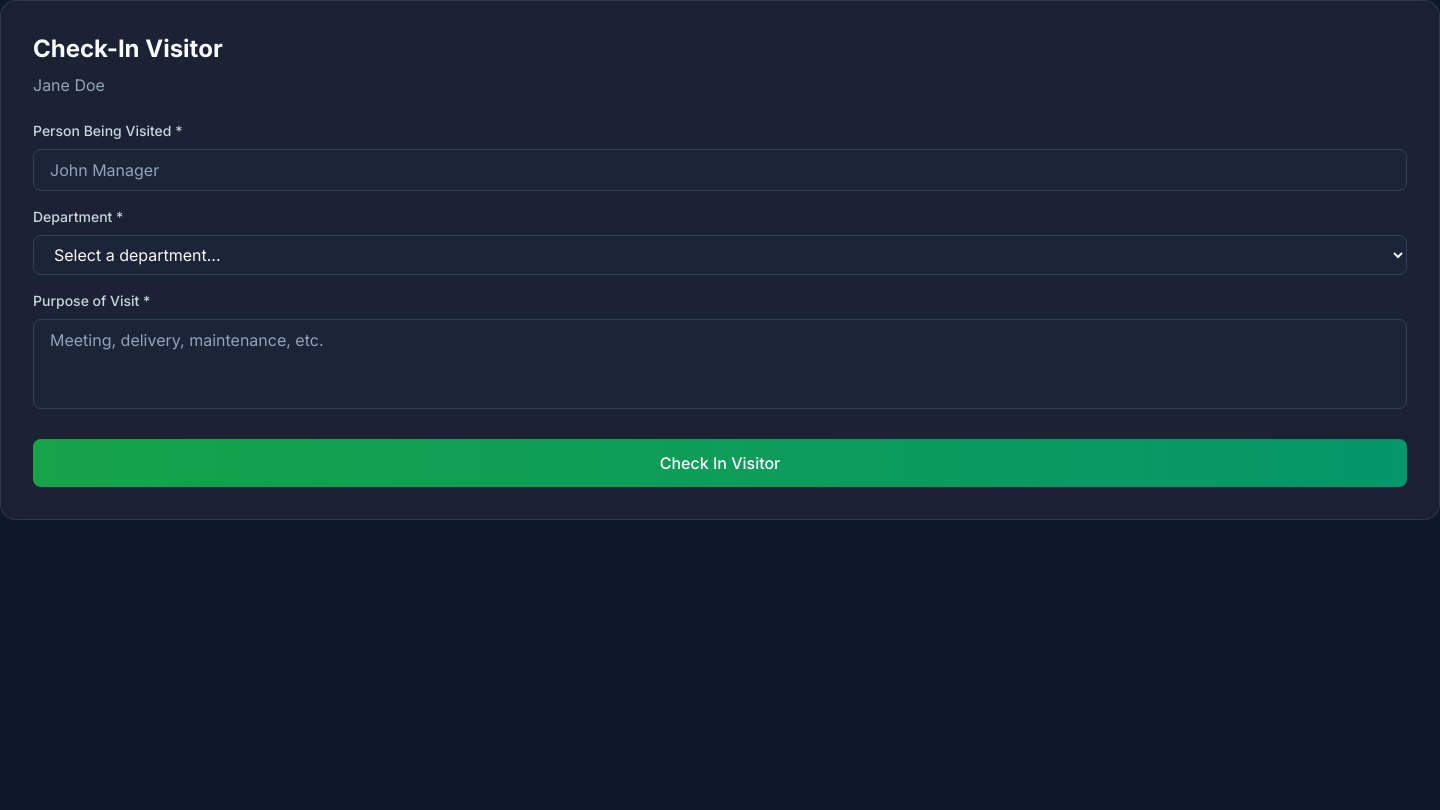
it: VisitCheckInForm › should show validation errors for empty required fields
Expected: the heading "Check-In Visitor" is shown, x1=33 y1=34 x2=223 y2=63
Click the button "Check In Visitor": [720, 463] box x1=33 y1=439 x2=1407 y2=487
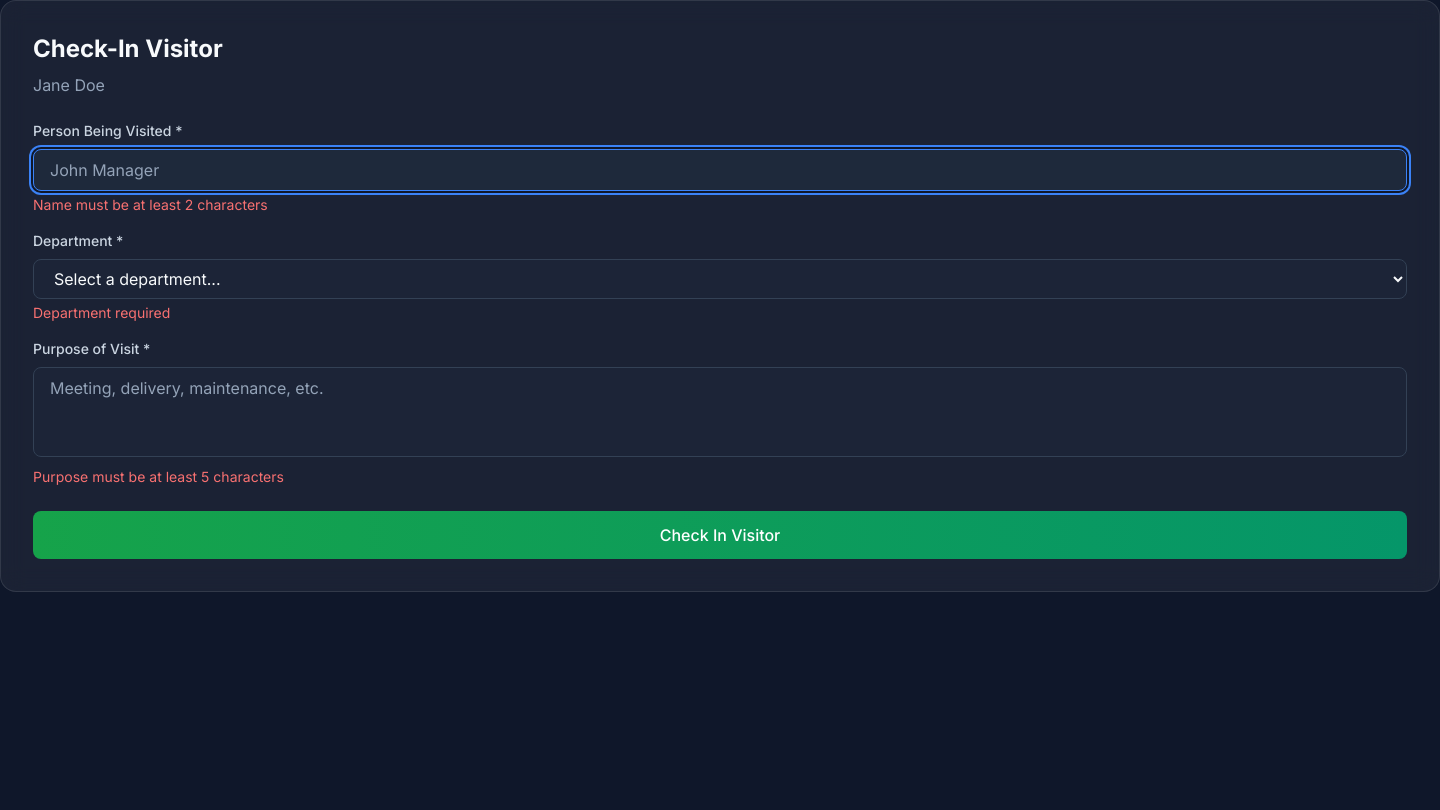
Result: the text "Name must be at least 2 characters" is shown at x1=33 y1=196 x2=268 y2=213
